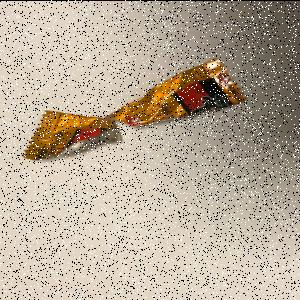Trash: (21, 58, 250, 162)
